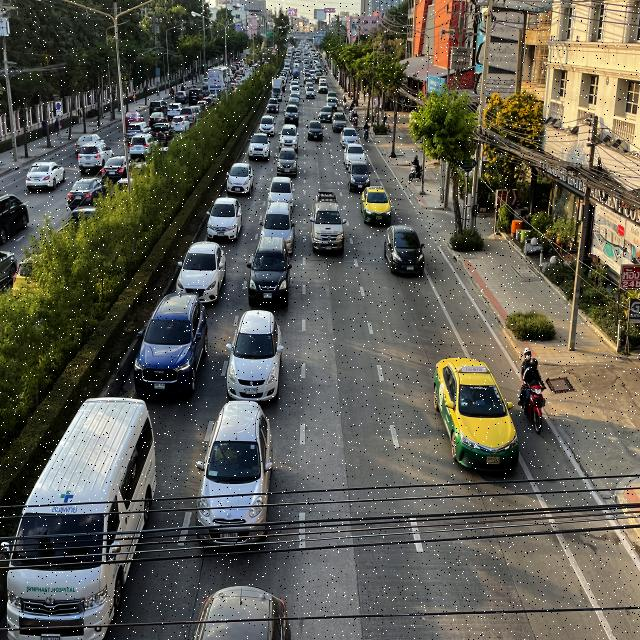bike: (518, 342, 549, 433), (408, 152, 422, 184)
car: (5, 396, 160, 638), (192, 398, 274, 557), (433, 349, 521, 488), (135, 291, 207, 400), (224, 308, 290, 401), (192, 582, 290, 638), (174, 242, 226, 302), (250, 238, 294, 305), (382, 219, 425, 279), (207, 198, 243, 244), (360, 186, 392, 228), (226, 163, 256, 200), (276, 148, 303, 179), (247, 132, 272, 163), (347, 162, 371, 190), (306, 119, 324, 144)
truck: (310, 190, 354, 252)
